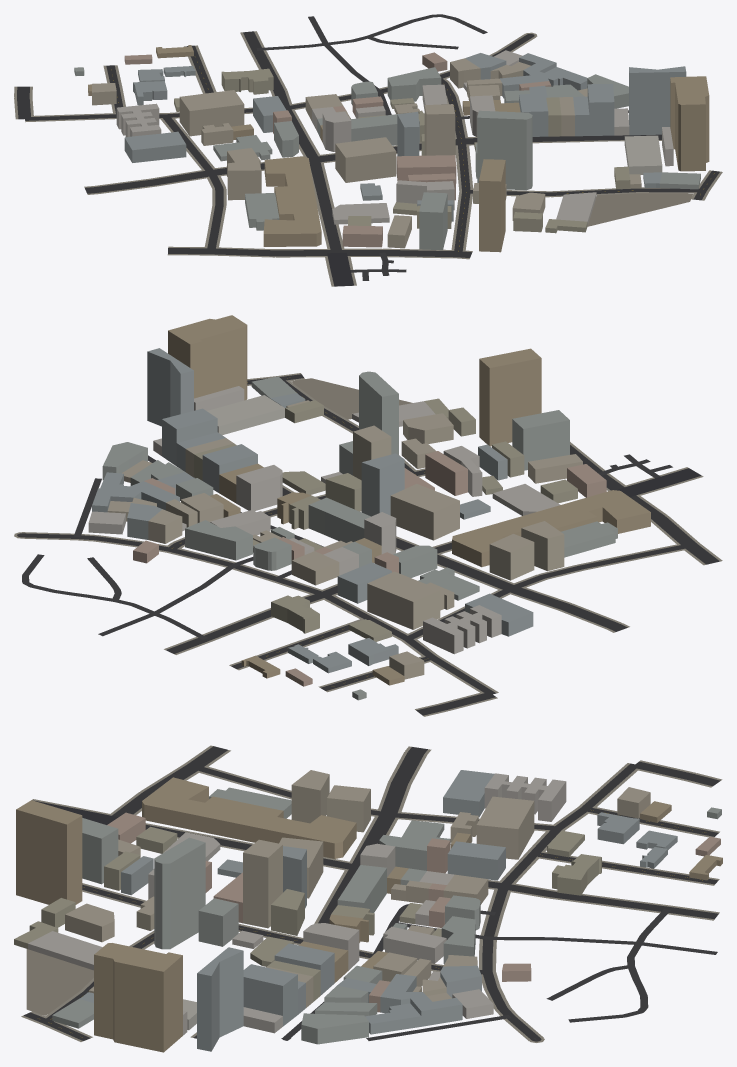
3 views of the same model, one above another, from view 1: azimuth 30°, elevation 25°; view 2: azimuth 150°, elevation 25°; view 3: azimuth 270°, elevation 25° (orthographic). The views are drawn at different scales.
Visible parts, largest first — view 1: tile_-3_-1; view 2: tile_-3_-1; view 3: tile_-3_-1.
Boxes of the visible parts, <box> form: tile_-3_-1: <box>14,14,722,286</box>; tile_-3_-1: <box>14,315,722,716</box>; tile_-3_-1: <box>14,745,722,1052</box>.
Bounding box in the file's own units: 421 × 54.8 × 411.
